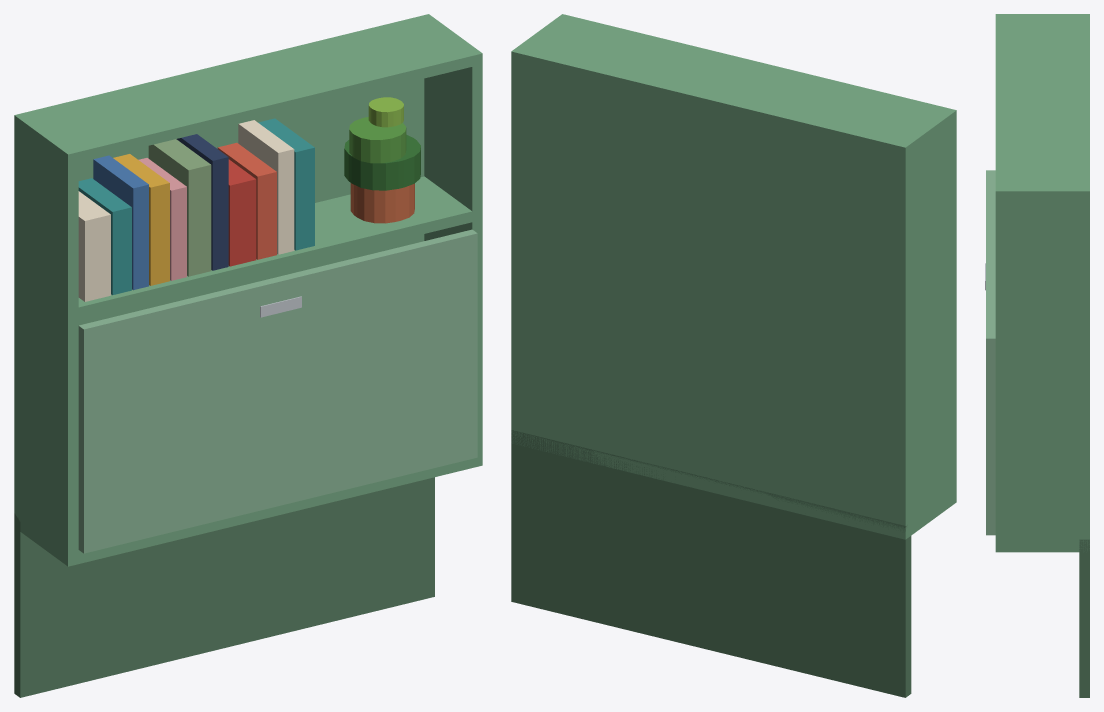
Rendered from wall_laptop_desk.glb.
3 renders of one model, left to right at view 1: azimuth 30°, elevation 25°; view 2: azimuth 150°, elevation 25°; view 3: azimuth 270°, elevation 25°, orthographic. The views are drawn at different scales.
Parts seen in each view (by area): view 1: wall_laptop_desk_Body, wall_laptop_desk_Flap; view 2: wall_laptop_desk_Body; view 3: wall_laptop_desk_Body, wall_laptop_desk_Flap.
Boxes of the visible parts, box(x1,y1,x2,y2) form: wall_laptop_desk_Body: box(14, 14, 482, 697); wall_laptop_desk_Flap: box(78, 229, 477, 553); wall_laptop_desk_Body: box(511, 14, 956, 697); wall_laptop_desk_Body: box(995, 14, 1089, 697); wall_laptop_desk_Flap: box(985, 170, 995, 535).
Size of the model in its own units: 1.2 by 1.6 by 0.3.
